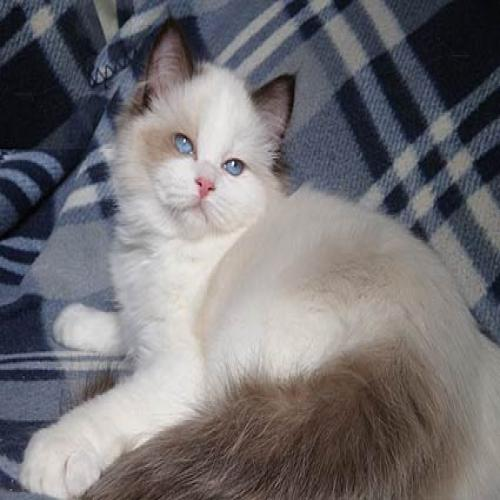ragdoll: (110, 18, 305, 256)
